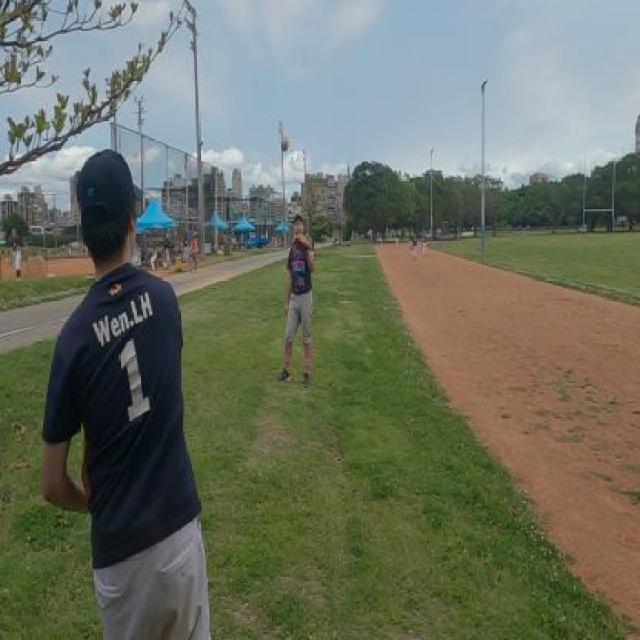baseball: (280, 136, 289, 152)
